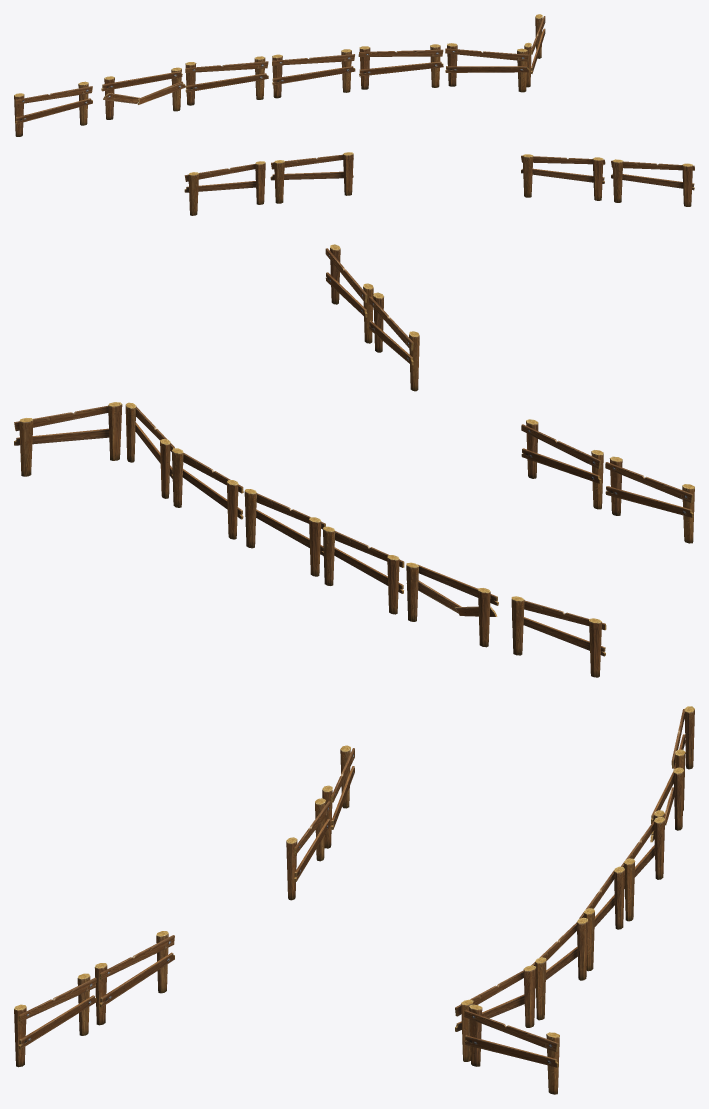
File: Area_13_36.fbx
The picture shows the model from 3 angles, top to bottom: view 1: azimuth 30°, elevation 25°; view 2: azimuth 150°, elevation 25°; view 3: azimuth 270°, elevation 25°; orthographic projection. The views are drawn at different scales.
Visible parts, largest first — view 1: Area_13_36; view 2: Area_13_36; view 3: Area_13_36.
Boxes of the visible parts, <box> form: Area_13_36: <box>14,14,694,215</box>; Area_13_36: <box>14,244,694,677</box>; Area_13_36: <box>14,706,694,1094</box>.
Bounding box in the file's own units: 1722 × 147 × 1486.
